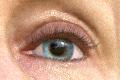eye: (43, 38, 74, 59)
